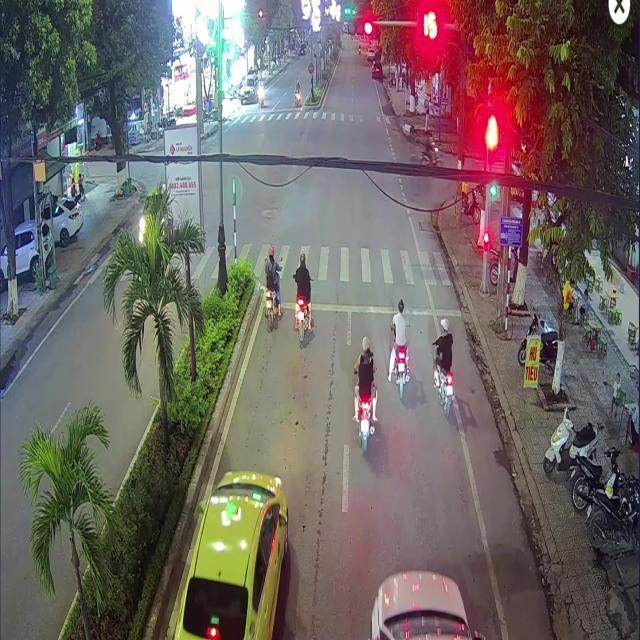car: (172, 470, 288, 638), (368, 569, 484, 638)
motobike: (388, 341, 409, 398), (354, 394, 374, 453), (433, 361, 453, 416), (294, 292, 311, 342), (264, 288, 278, 330)
red_light: (346, 15, 373, 36), (486, 135, 495, 168), (483, 236, 487, 254)
stop_line: (263, 299, 460, 315)
